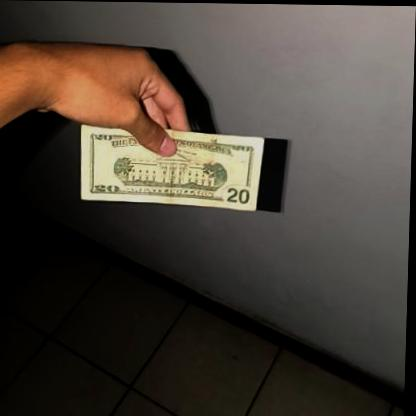twenty-back: (77, 122, 266, 211)
